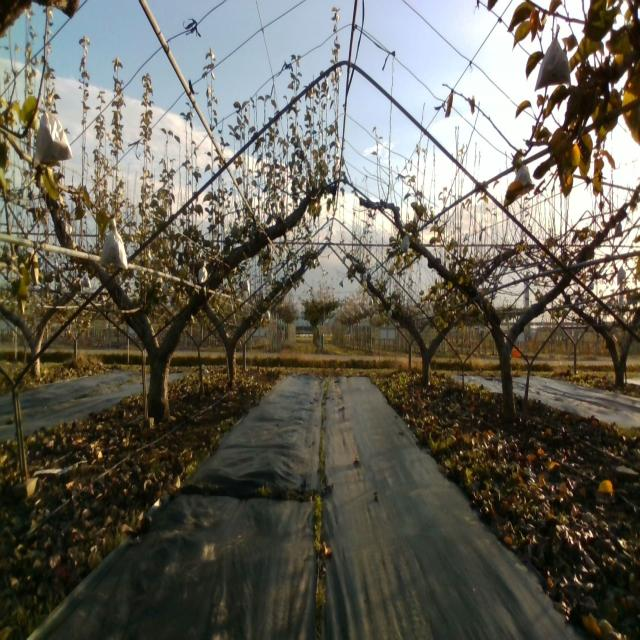pearbags: (31, 101, 74, 168), (534, 24, 572, 91), (98, 218, 128, 272), (513, 163, 532, 187), (400, 232, 410, 252)
